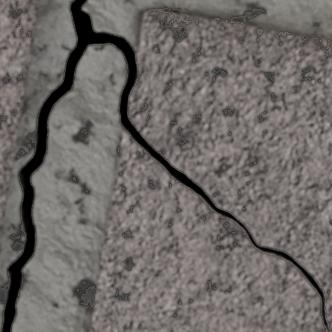brick: (0, 0, 39, 237)
broken_brick: (129, 9, 331, 331), (90, 130, 326, 331)
crack: (1, 0, 330, 331)
